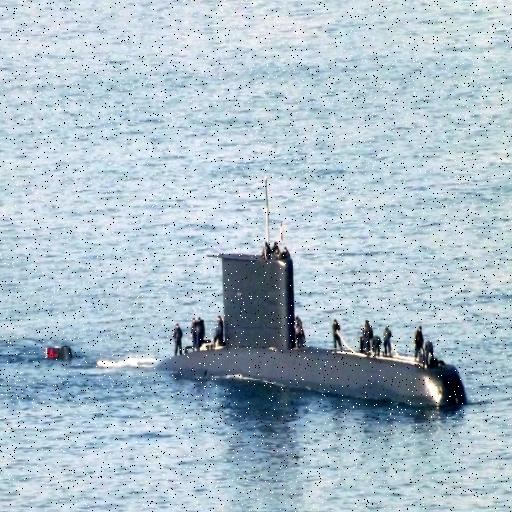submarine: (161, 250, 471, 409)
